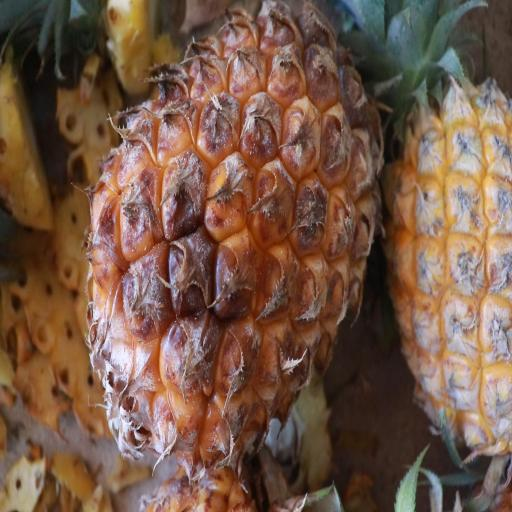Pineapple - v8 v1: (88, 0, 384, 472), (379, 0, 512, 495)
